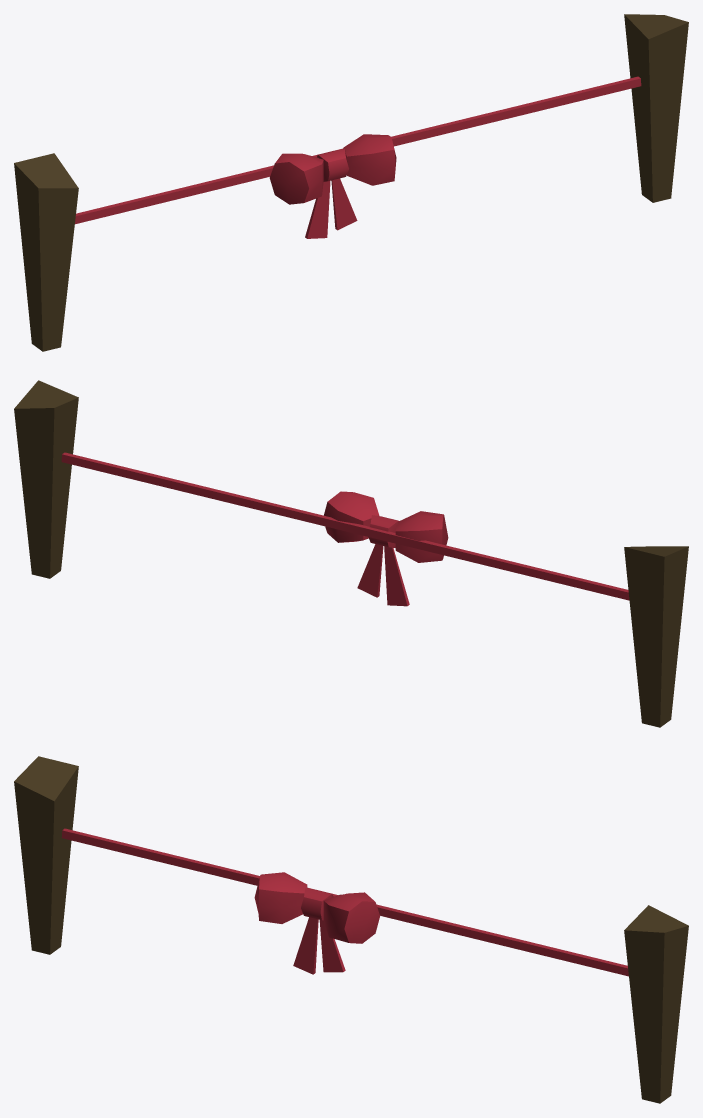
The model's file is Finishline (1).fbx.
The picture shows the model from 3 angles, top to bottom: view 1: azimuth 30°, elevation 25°; view 2: azimuth 150°, elevation 25°; view 3: azimuth 330°, elevation 25°; orthographic projection.
Visible parts, largest first — view 1: pCube6; view 2: pCube6; view 3: pCube6.
Boxes of the visible parts, <box> form: pCube6: <box>14,14,688,351</box>; pCube6: <box>14,380,688,727</box>; pCube6: <box>14,756,688,1103</box>.
Bounding box in the file's own units: 11.42 × 2.99 × 1.15.
